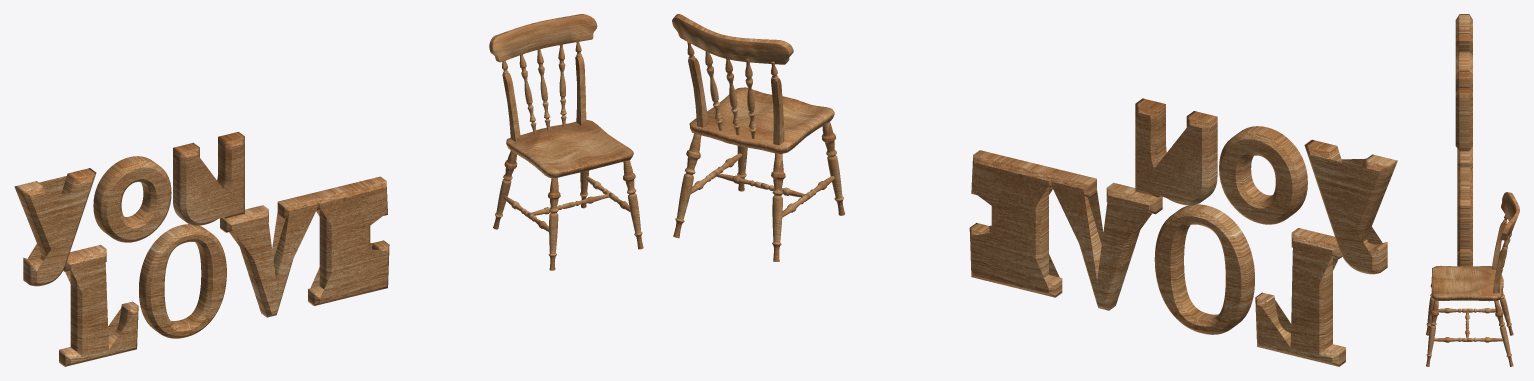
The picture shows the model from 3 angles, left to right: view 1: azimuth 30°, elevation 25°; view 2: azimuth 150°, elevation 25°; view 3: azimuth 270°, elevation 25°; orthographic projection. The views are drawn at different scales.
Parts seen in each view (by area): view 1: polySurface4, polySurface3, seat; view 2: polySurface4, polySurface3, seat; view 3: seat, polySurface3, polySurface4.
Part boxes in pixels (x1,y1,x2,y2): polySurface4: (59, 176, 389, 366); polySurface3: (14, 132, 244, 286); seat: (489, 14, 643, 270); polySurface4: (969, 150, 1345, 366); polySurface3: (1135, 98, 1397, 274); seat: (672, 14, 844, 261); seat: (1426, 192, 1519, 366); polySurface3: (1455, 14, 1472, 151); polySurface4: (1457, 146, 1472, 266).
Bounding box in the file's own units: 13.46 × 4.13 × 2.46.
1 material, 1 textured.
